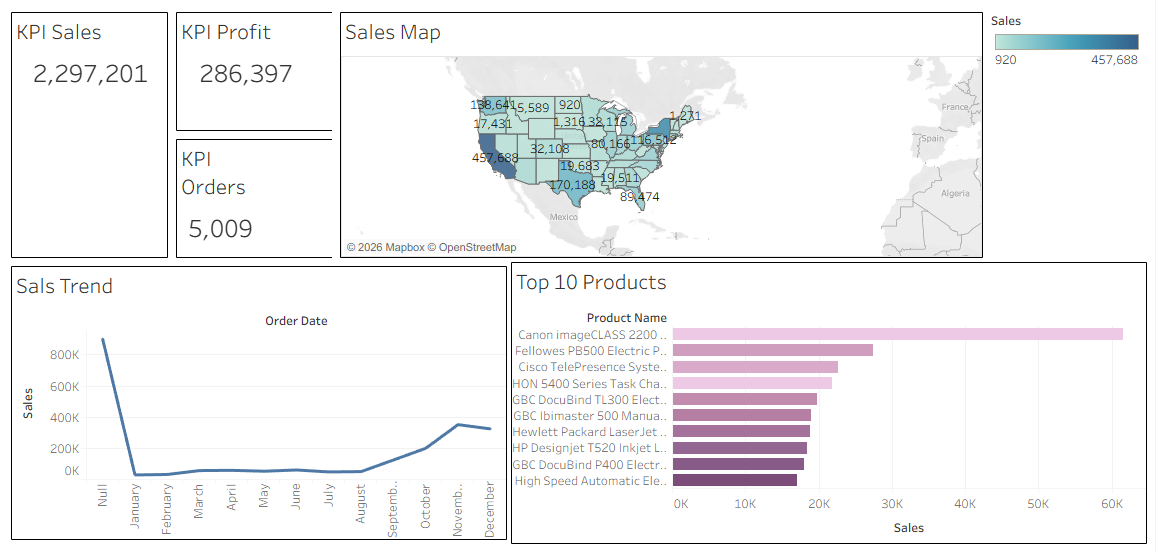

What the dashboard file says about the page in this screenshot:
{"tool":"tableau","page":{"name":"Dashboard 1","canvas":[1000,1000],"units":"permille","ordinal":0},"visuals":[{"type":"worksheet","title":"KPI Sales","mark":"Automatic","box":[6.9,14.5,142.4,460.1]},{"type":"worksheet","title":"KPI Profit","mark":"Automatic","box":[149.3,14.5,142.4,230.1]},{"type":"worksheet","title":"Sales Map","mark":"Multipolygon","box":[291.8,14.5,562.9,460.1]},{"type":"legend","title":"Sales Map","param":"[federated.1xjsc2x0mdgvp1174h2qt1tjcrng].[sum:Sales:qk]","box":[854.7,14.5,138.4,117.8]},{"type":"worksheet","title":"KPI Orders","mark":"Automatic","box":[149.3,244.6,142.4,230.1]},{"type":"worksheet","title":"Sals Trend","mark":"Automatic","rows":["Sales"],"cols":["Order Date"],"box":[6.9,474.6,436.4,510.9]},{"type":"worksheet","title":"Top 10 Products","mark":"Automatic","rows":["Product Name"],"cols":["Sales"],"box":[443.3,474.6,549.8,510.9]}]}

Visuals, with their boxes on the dashboard's canvas, which has no fixed pixel size, in thousandths of its width and height (x1, y1, x2, y2). These are canvas units, not pixel positions in the 1156x552 screenshot, which may show the page scaled, cropped or inside an application window:
"KPI Sales" worksheet: 7,14,149,475
"KPI Profit" worksheet: 149,14,292,245
"Sales Map" worksheet (Multipolygon marks): 292,14,855,475
"Sales Map" legend: 855,14,993,132
"KPI Orders" worksheet: 149,245,292,475
"Sals Trend" worksheet: 7,475,443,986
"Top 10 Products" worksheet: 443,475,993,986
